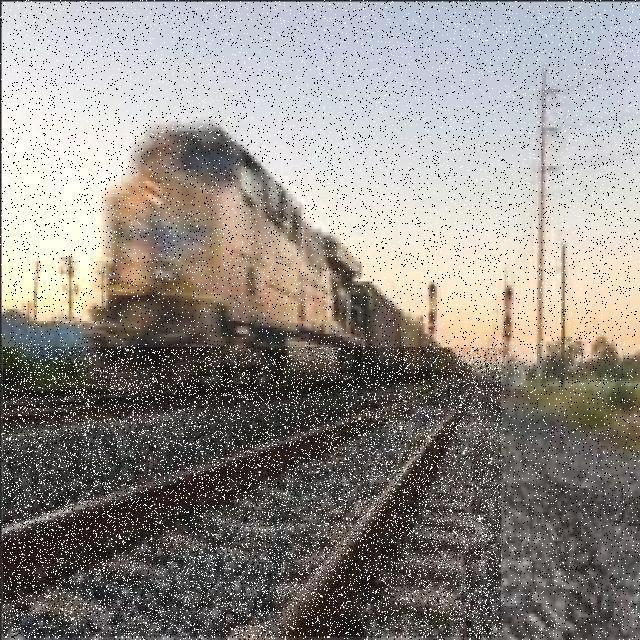rail: (4, 349, 502, 638)
